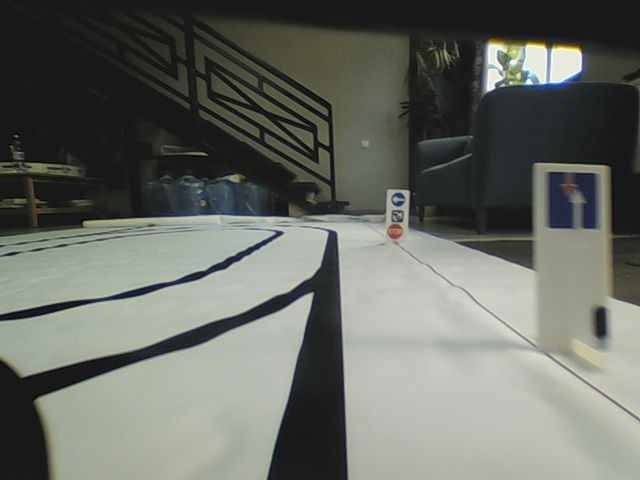Stop: (387, 224, 404, 239)
priority_movement: (547, 171, 602, 230)
